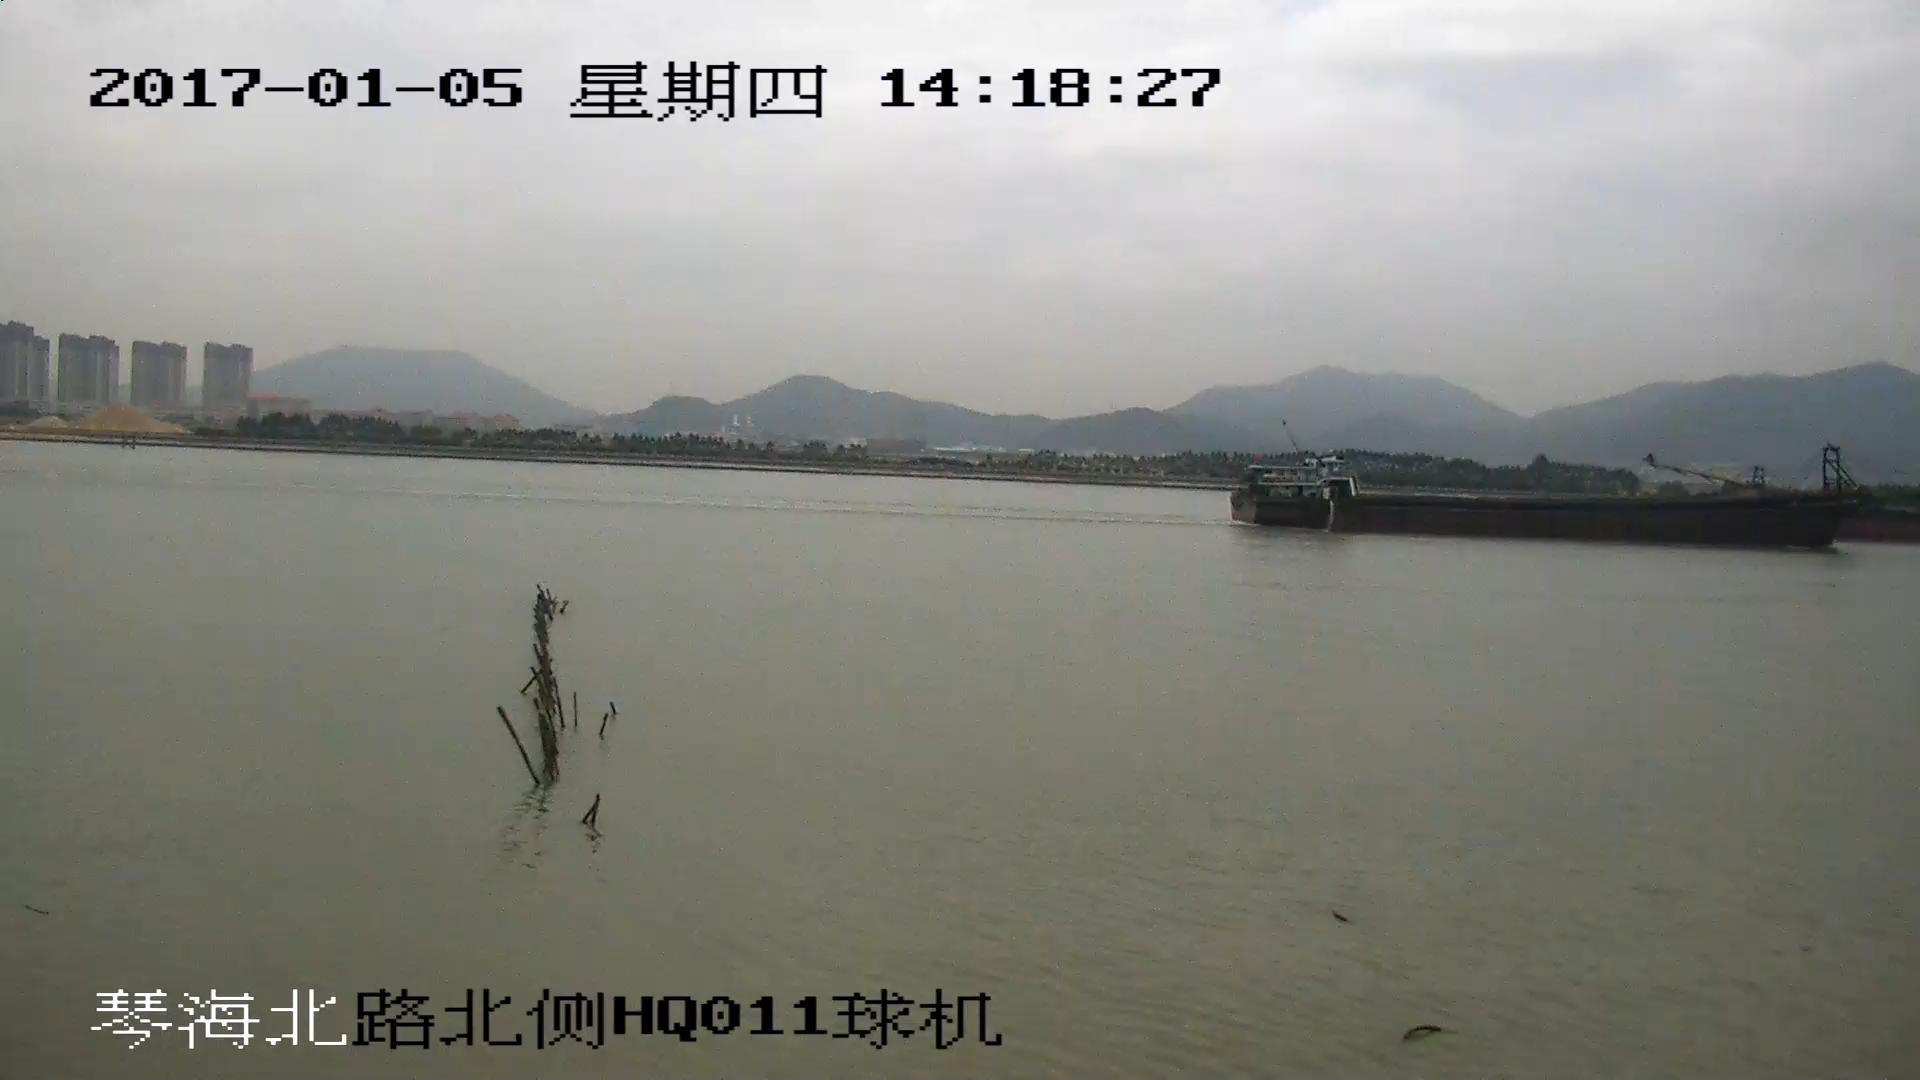Ship: (1226, 434, 1920, 545)
